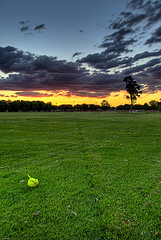tennis ball: (26, 176, 40, 189)
